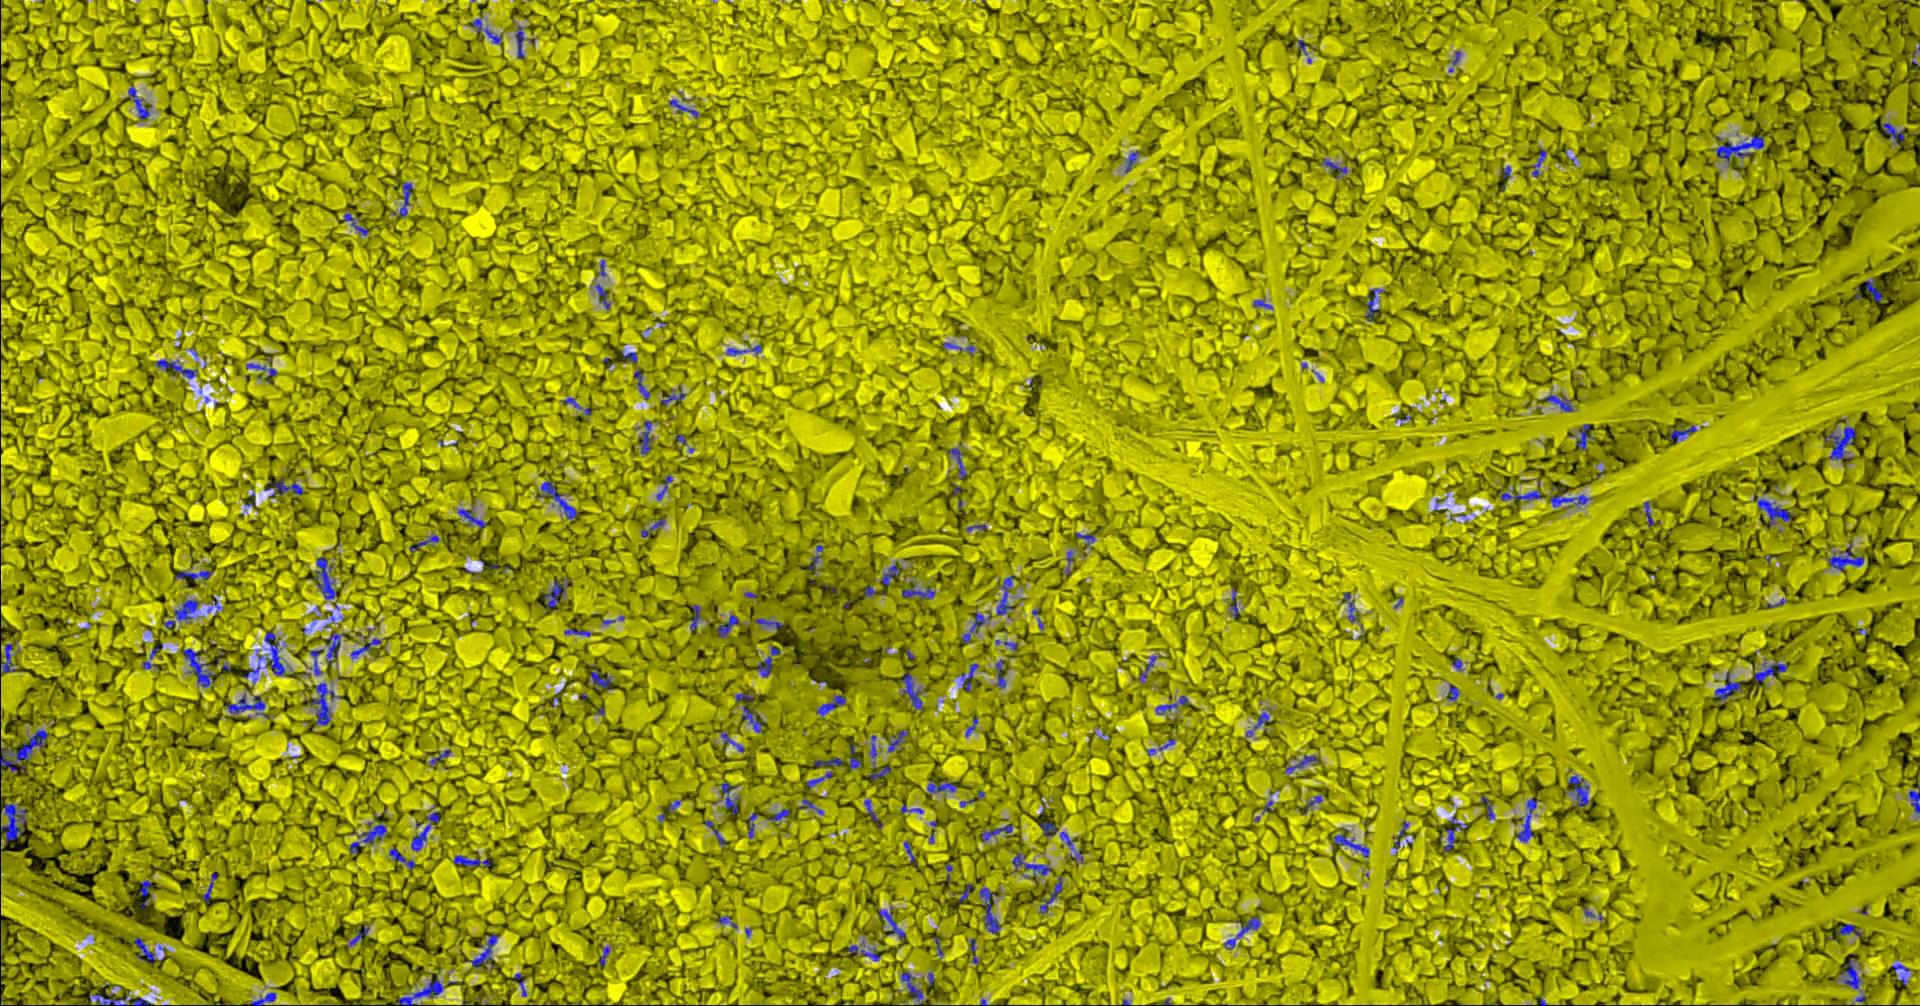ant: (243, 631, 284, 683), (0, 730, 47, 772), (303, 682, 342, 725), (1713, 135, 1763, 165), (540, 480, 577, 521), (397, 976, 443, 1005), (410, 807, 439, 850), (182, 648, 215, 686), (163, 600, 199, 629), (1823, 426, 1855, 459), (1333, 827, 1368, 857), (469, 934, 498, 969), (0, 803, 27, 841), (979, 887, 1001, 934), (312, 558, 337, 600), (225, 694, 267, 718), (1827, 542, 1863, 570), (1039, 821, 1074, 848), (1011, 852, 1051, 876), (1714, 671, 1747, 700), (1515, 796, 1537, 841), (1549, 481, 1589, 506), (900, 970, 927, 1005), (961, 611, 990, 641), (1757, 498, 1790, 525), (900, 672, 923, 710), (1443, 815, 1467, 851), (877, 908, 905, 939), (1039, 876, 1062, 913), (127, 85, 151, 119), (471, 17, 502, 43), (155, 359, 197, 379), (543, 579, 571, 607), (88, 993, 152, 1005), (756, 647, 780, 677), (391, 182, 411, 217), (1752, 659, 1785, 681), (265, 476, 302, 495), (996, 575, 1013, 615), (356, 822, 386, 843), (324, 633, 344, 664), (1568, 775, 1589, 807), (246, 362, 276, 384), (516, 25, 535, 58), (902, 580, 935, 600), (1156, 695, 1189, 714), (720, 782, 739, 815), (946, 447, 966, 478), (1840, 958, 1860, 988), (298, 649, 323, 674), (1365, 288, 1384, 320), (817, 694, 844, 715), (350, 638, 380, 658), (1284, 754, 1317, 772), (389, 847, 415, 869), (1525, 149, 1545, 177), (457, 508, 485, 528), (201, 871, 218, 903), (343, 212, 367, 235), (1392, 821, 1408, 854), (1543, 394, 1573, 412), (980, 824, 1012, 841), (847, 944, 879, 960), (1236, 915, 1258, 937), (668, 99, 697, 117), (1145, 737, 1175, 754), (1321, 158, 1346, 178), (742, 705, 761, 732), (716, 614, 738, 636), (703, 821, 725, 843), (1883, 122, 1903, 146), (660, 385, 684, 405), (720, 730, 744, 751), (133, 937, 154, 962), (632, 370, 649, 399), (409, 535, 438, 551), (880, 564, 902, 586), (0, 643, 15, 673), (886, 729, 907, 752), (347, 925, 370, 945), (637, 420, 651, 453), (1669, 426, 1697, 442), (1137, 655, 1156, 680), (1576, 423, 1594, 448), (453, 855, 493, 866), (808, 544, 823, 573), (641, 517, 664, 536), (1498, 490, 1540, 500), (961, 663, 977, 691), (806, 771, 832, 788), (590, 668, 611, 688), (1863, 279, 1882, 301), (1343, 592, 1357, 621), (943, 342, 974, 354), (657, 474, 672, 499), (800, 798, 823, 814), (175, 569, 212, 579), (596, 283, 610, 310), (903, 841, 917, 868), (726, 344, 761, 354), (867, 765, 890, 780), (926, 781, 956, 793), (512, 972, 526, 996), (138, 879, 150, 908), (1124, 150, 1139, 171), (250, 992, 276, 1005), (1481, 795, 1493, 819), (747, 812, 758, 838), (429, 749, 451, 763), (863, 799, 877, 821), (1229, 587, 1239, 616), (754, 619, 783, 629), (1909, 784, 1919, 813), (957, 883, 973, 902), (1074, 532, 1095, 546), (690, 605, 700, 633), (994, 659, 1004, 687), (848, 744, 860, 768), (1837, 923, 1862, 935), (767, 808, 789, 821), (715, 915, 737, 927), (813, 757, 842, 766), (1643, 500, 1653, 526), (1253, 713, 1269, 729), (564, 627, 590, 636), (969, 937, 978, 963), (598, 946, 610, 965), (735, 691, 754, 701), (1446, 683, 1458, 700), (621, 351, 636, 362)
